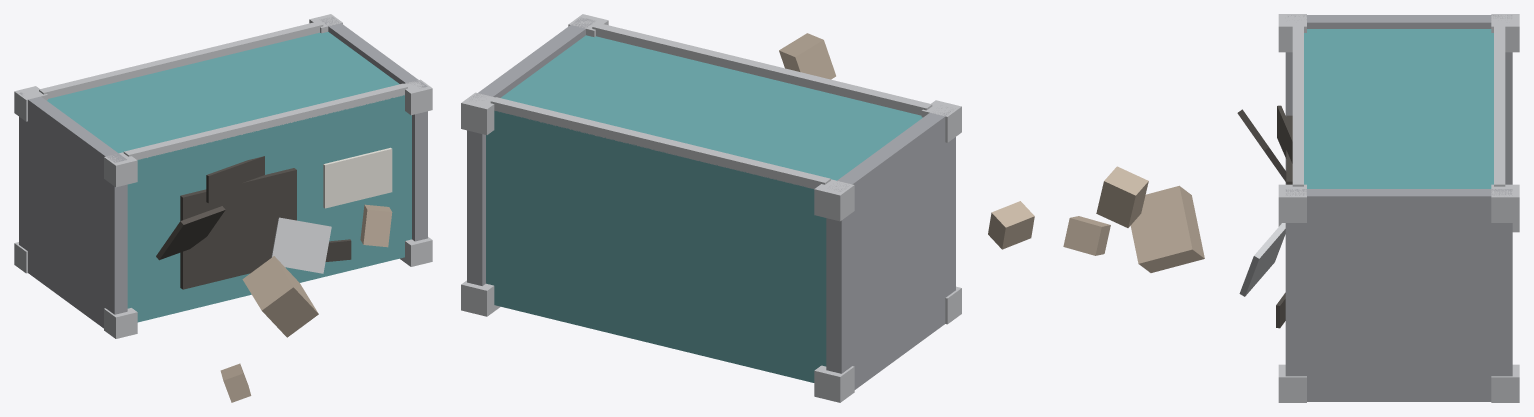
Rendered from cargo_pod_standard_breached.glb.
3 renders of one model, left to right at view 1: azimuth 30°, elevation 25°; view 2: azimuth 150°, elevation 25°; view 3: azimuth 270°, elevation 25°, orthographic. The views are drawn at different scales.
Parts seen in each view (by area): view 1: pod_body, pod_enda, breach, pod_casts, pod_endf, pod_rails, pod_railp, spill0, pod_plate, flap_b, flap_a, streak_a (+3 smaller); view 2: pod_body, pod_enda, pod_casts, pod_endf, pod_railp, pod_rails, spill1, spill2; view 3: pod_endf, pod_body, pod_casts, spill0, pod_enda, spill1, pod_railp, pod_rails, spill2, flap_b, streak_a, flap_a.
Boxes of the visible parts, x1=… form: pod_body: x1=47, y1=32, x2=411, y2=322; pod_enda: x1=19, y1=92, x2=127, y2=328; breach: x1=180, y1=168, x2=296, y2=289; pod_casts: x1=14, y1=14, x2=432, y2=338; pod_endf: x1=319, y1=17, x2=427, y2=241; pod_rails: x1=123, y1=83, x2=407, y2=159; pod_railp: x1=39, y1=21, x2=323, y2=98; spill0: x1=242, y1=256, x2=318, y2=337; pod_plate: x1=323, y1=147, x2=392, y2=208; flap_b: x1=271, y1=217, x2=331, y2=273; flap_a: x1=156, y1=206, x2=225, y2=260; streak_a: x1=206, y1=156, x2=264, y2=203; pod_body: x1=486, y1=35, x2=922, y2=382; pod_enda: x1=826, y1=107, x2=955, y2=389; pod_casts: x1=461, y1=14, x2=961, y2=402; pod_endf: x1=467, y1=17, x2=595, y2=285; pod_railp: x1=490, y1=97, x2=830, y2=188; pod_rails: x1=592, y1=23, x2=932, y2=115; spill1: x1=779, y1=33, x2=835, y2=79; spill2: x1=988, y1=201, x2=1034, y2=249; pod_endf: x1=1285, y1=189, x2=1512, y2=401; pod_body: x1=1304, y1=29, x2=1493, y2=188; pod_casts: x1=1278, y1=14, x2=1519, y2=402; spill0: x1=1130, y1=185, x2=1204, y2=272; pod_enda: x1=1285, y1=15, x2=1512, y2=184; spill1: x1=1096, y1=166, x2=1148, y2=227; pod_railp: x1=1494, y1=23, x2=1505, y2=186; pod_rails: x1=1292, y1=23, x2=1303, y2=186; spill2: x1=1063, y1=216, x2=1110, y2=255; flap_b: x1=1239, y1=223, x2=1285, y2=296; streak_a: x1=1277, y1=105, x2=1292, y2=163; flap_a: x1=1237, y1=109, x2=1286, y2=182.
Bounding box in the file's own units: 6.12 × 3.41 × 6.44.
